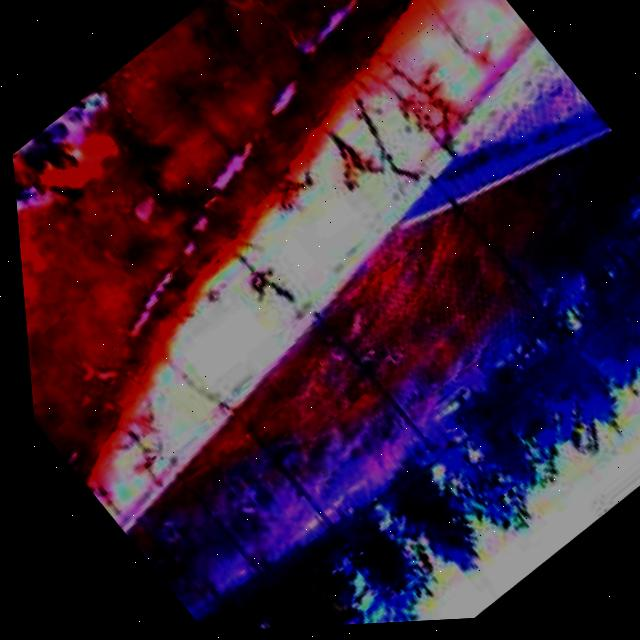Fire: (7, 98, 132, 233)
